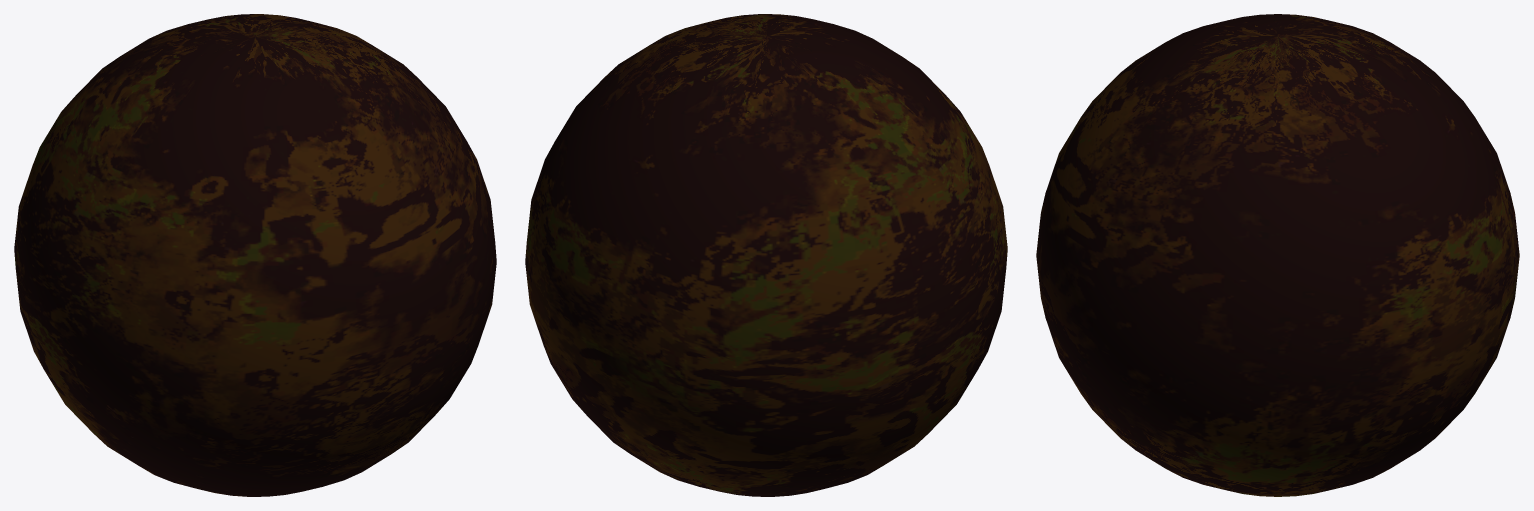
Rendered from Core.fbx.
3 renders of one model, left to right at view 1: azimuth 30°, elevation 25°; view 2: azimuth 150°, elevation 25°; view 3: azimuth 270°, elevation 25°, orthographic.
Visible parts, largest first — view 1: Core; view 2: Core; view 3: Core.
Part boxes in pixels (x1,y1,x2,y2): Core: (14, 14, 496, 496); Core: (525, 14, 1007, 496); Core: (1036, 14, 1519, 496).
Bounding box in the file's own units: 6141 × 6141 × 6141.
